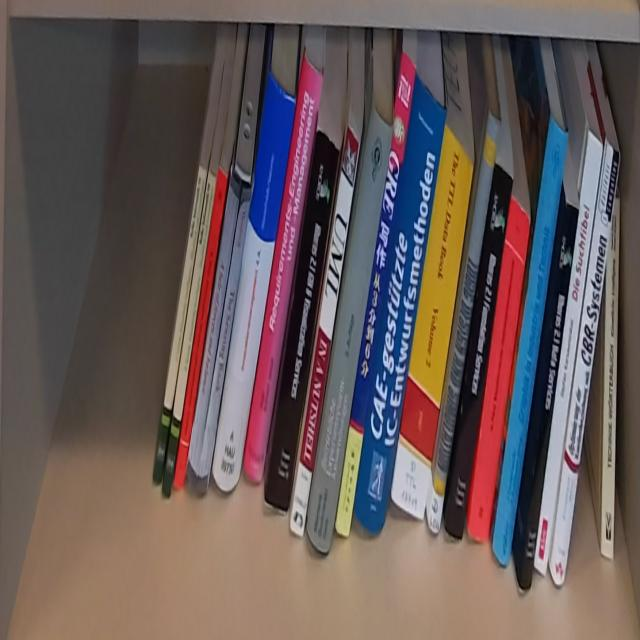Book Spine: (353, 75, 446, 533), (304, 103, 395, 551), (335, 49, 416, 539), (212, 69, 299, 492), (491, 109, 569, 567), (241, 57, 323, 487), (548, 141, 621, 586), (426, 107, 501, 538), (393, 125, 473, 529), (535, 126, 605, 581), (263, 127, 341, 513), (289, 122, 360, 540), (444, 162, 515, 544), (516, 201, 581, 592), (469, 195, 531, 542), (160, 171, 217, 497), (195, 183, 250, 508), (186, 177, 242, 494), (152, 163, 206, 491), (176, 171, 226, 487), (600, 194, 622, 557)
